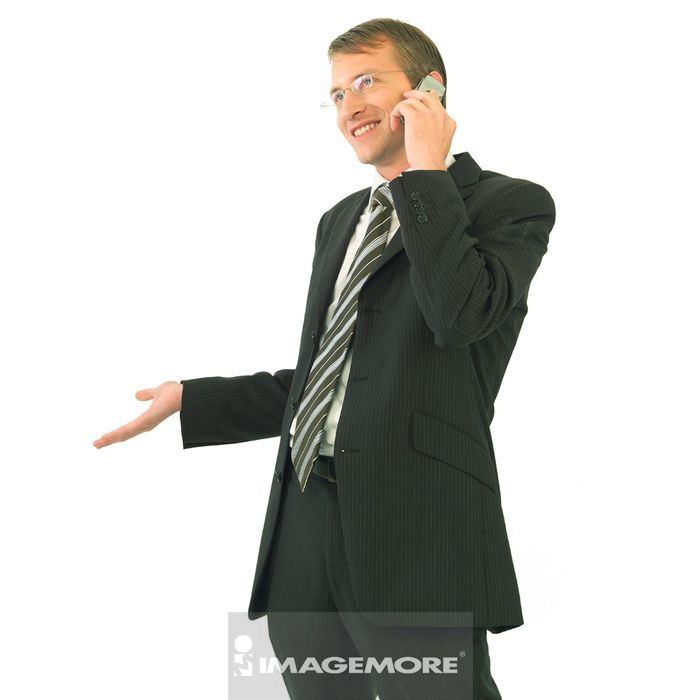talk: (328, 68, 456, 175)
